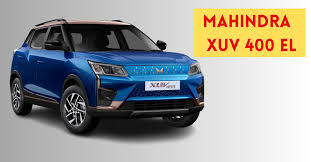XUV 400: (5, 16, 206, 136)
